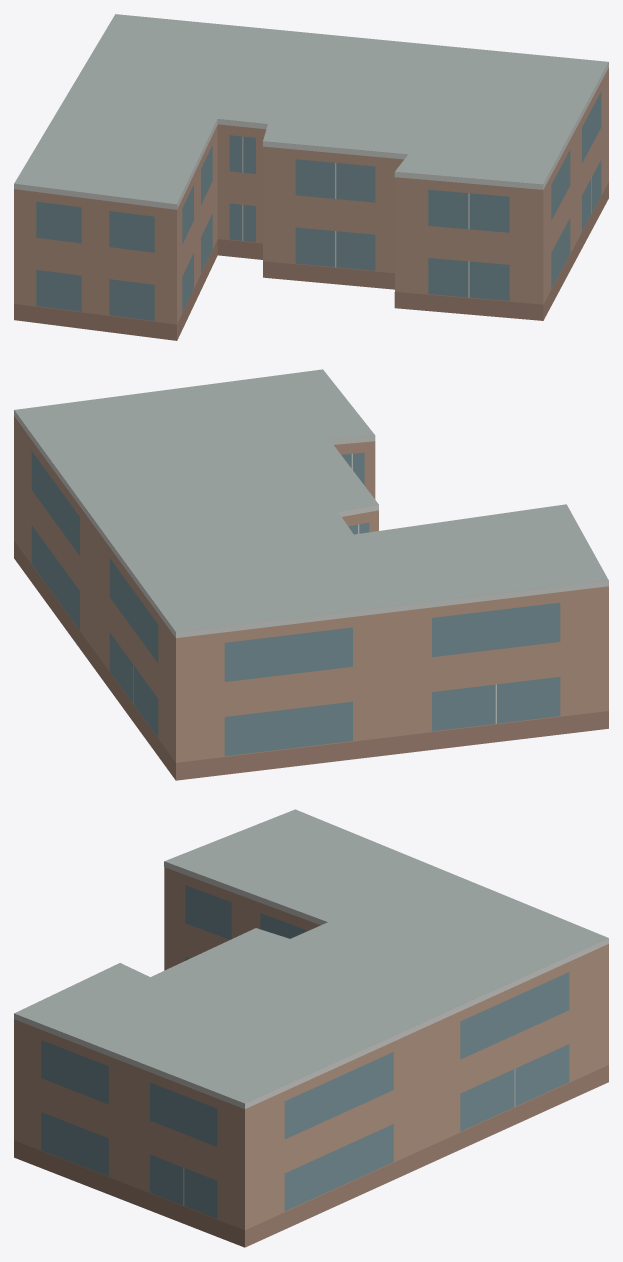
File: survey-upis-32769638.glb
3 views of the same model, one above another, from view 1: azimuth 30°, elevation 25°; view 2: azimuth 150°, elevation 25°; view 3: azimuth 270°, elevation 25° (orthographic). The views are drawn at different scales.
Parts seen in each view (by area): view 1: survey-upis-32769638.tmp; view 2: survey-upis-32769638.tmp; view 3: survey-upis-32769638.tmp.
Part boxes in pixels (<box>): survey-upis-32769638.tmp: <box>14,14,608,340</box>; survey-upis-32769638.tmp: <box>14,369,608,780</box>; survey-upis-32769638.tmp: <box>14,809,608,1247</box>.
Bounding box in the file's own units: 26.72 × 6.1 × 22.83.
